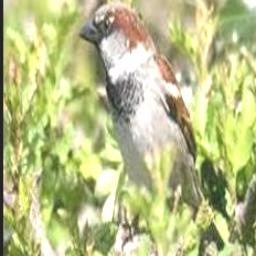Sparrow: (78, 1, 206, 213)
